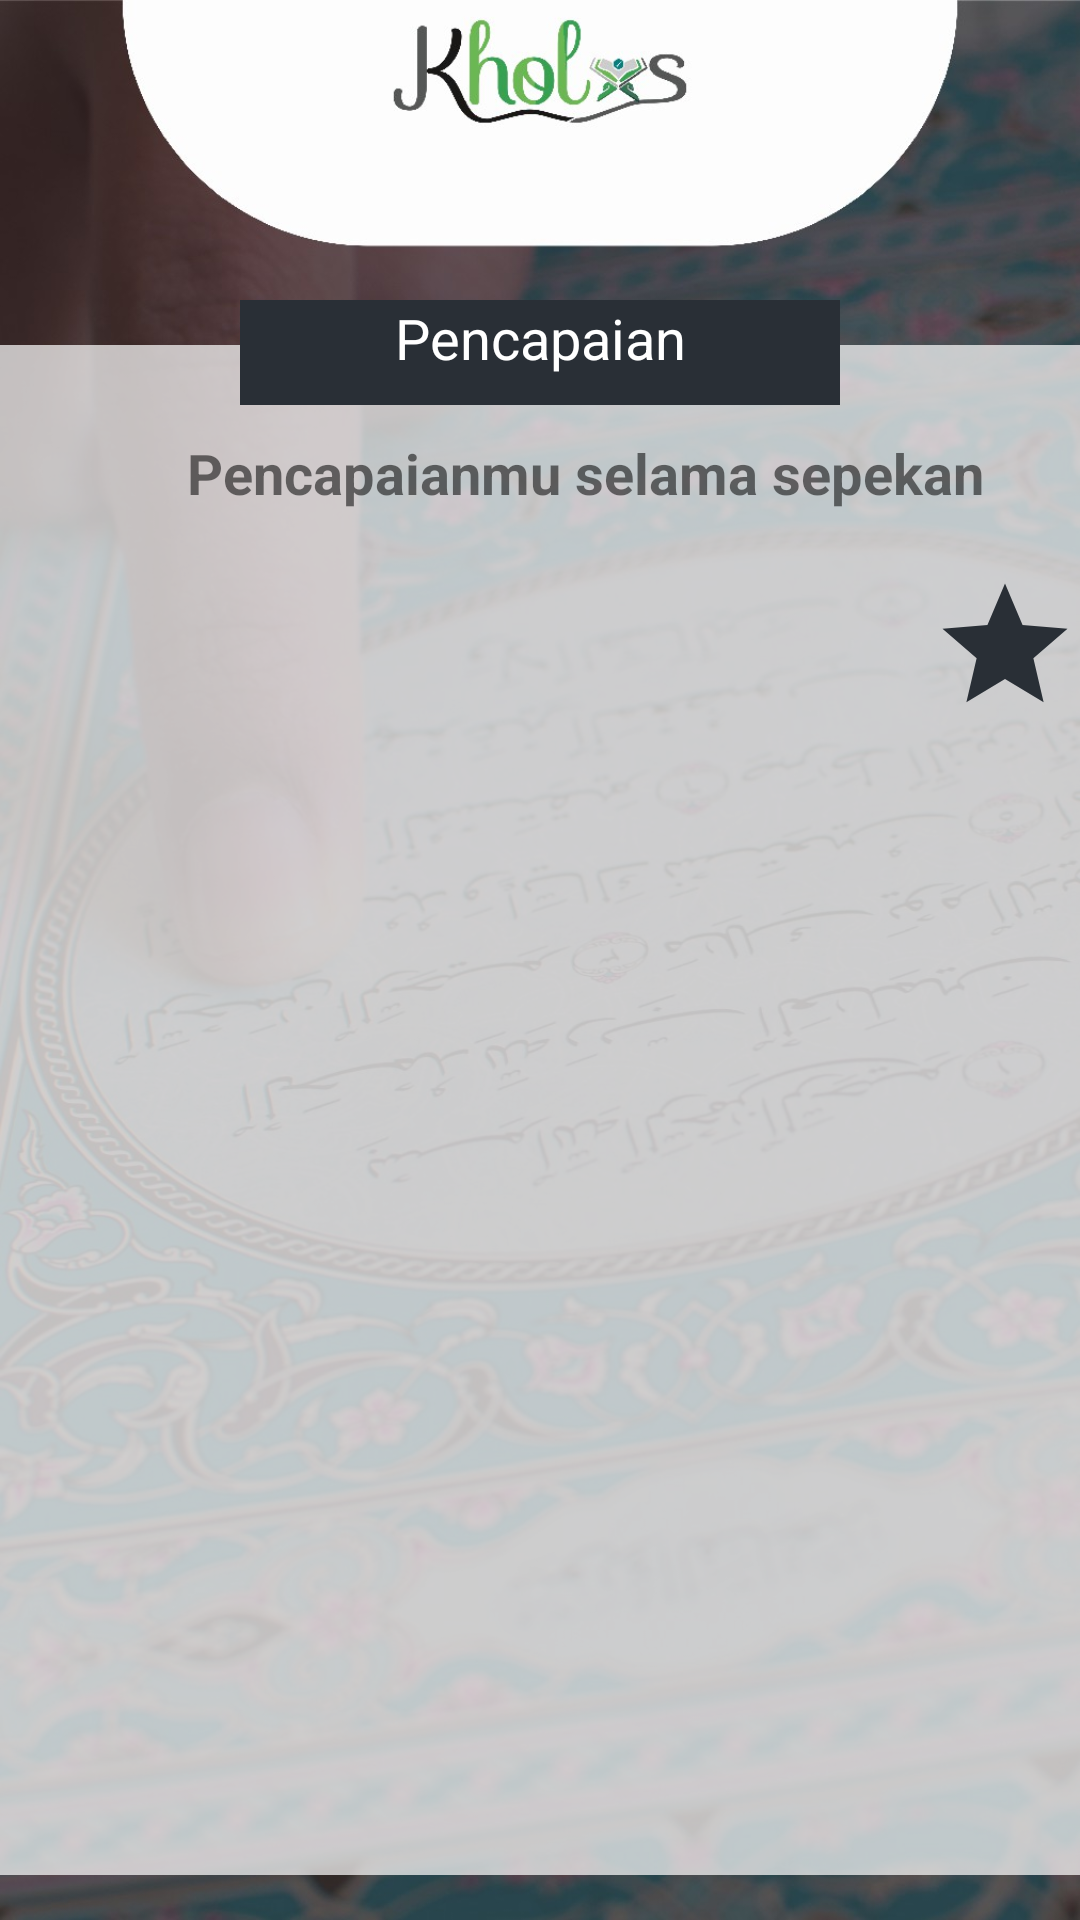

Screen size 1080 × 1920. Icon name, then its box in pixels as rect(x1, y1, x2, y2):
star: rect(943, 584, 1067, 702)
